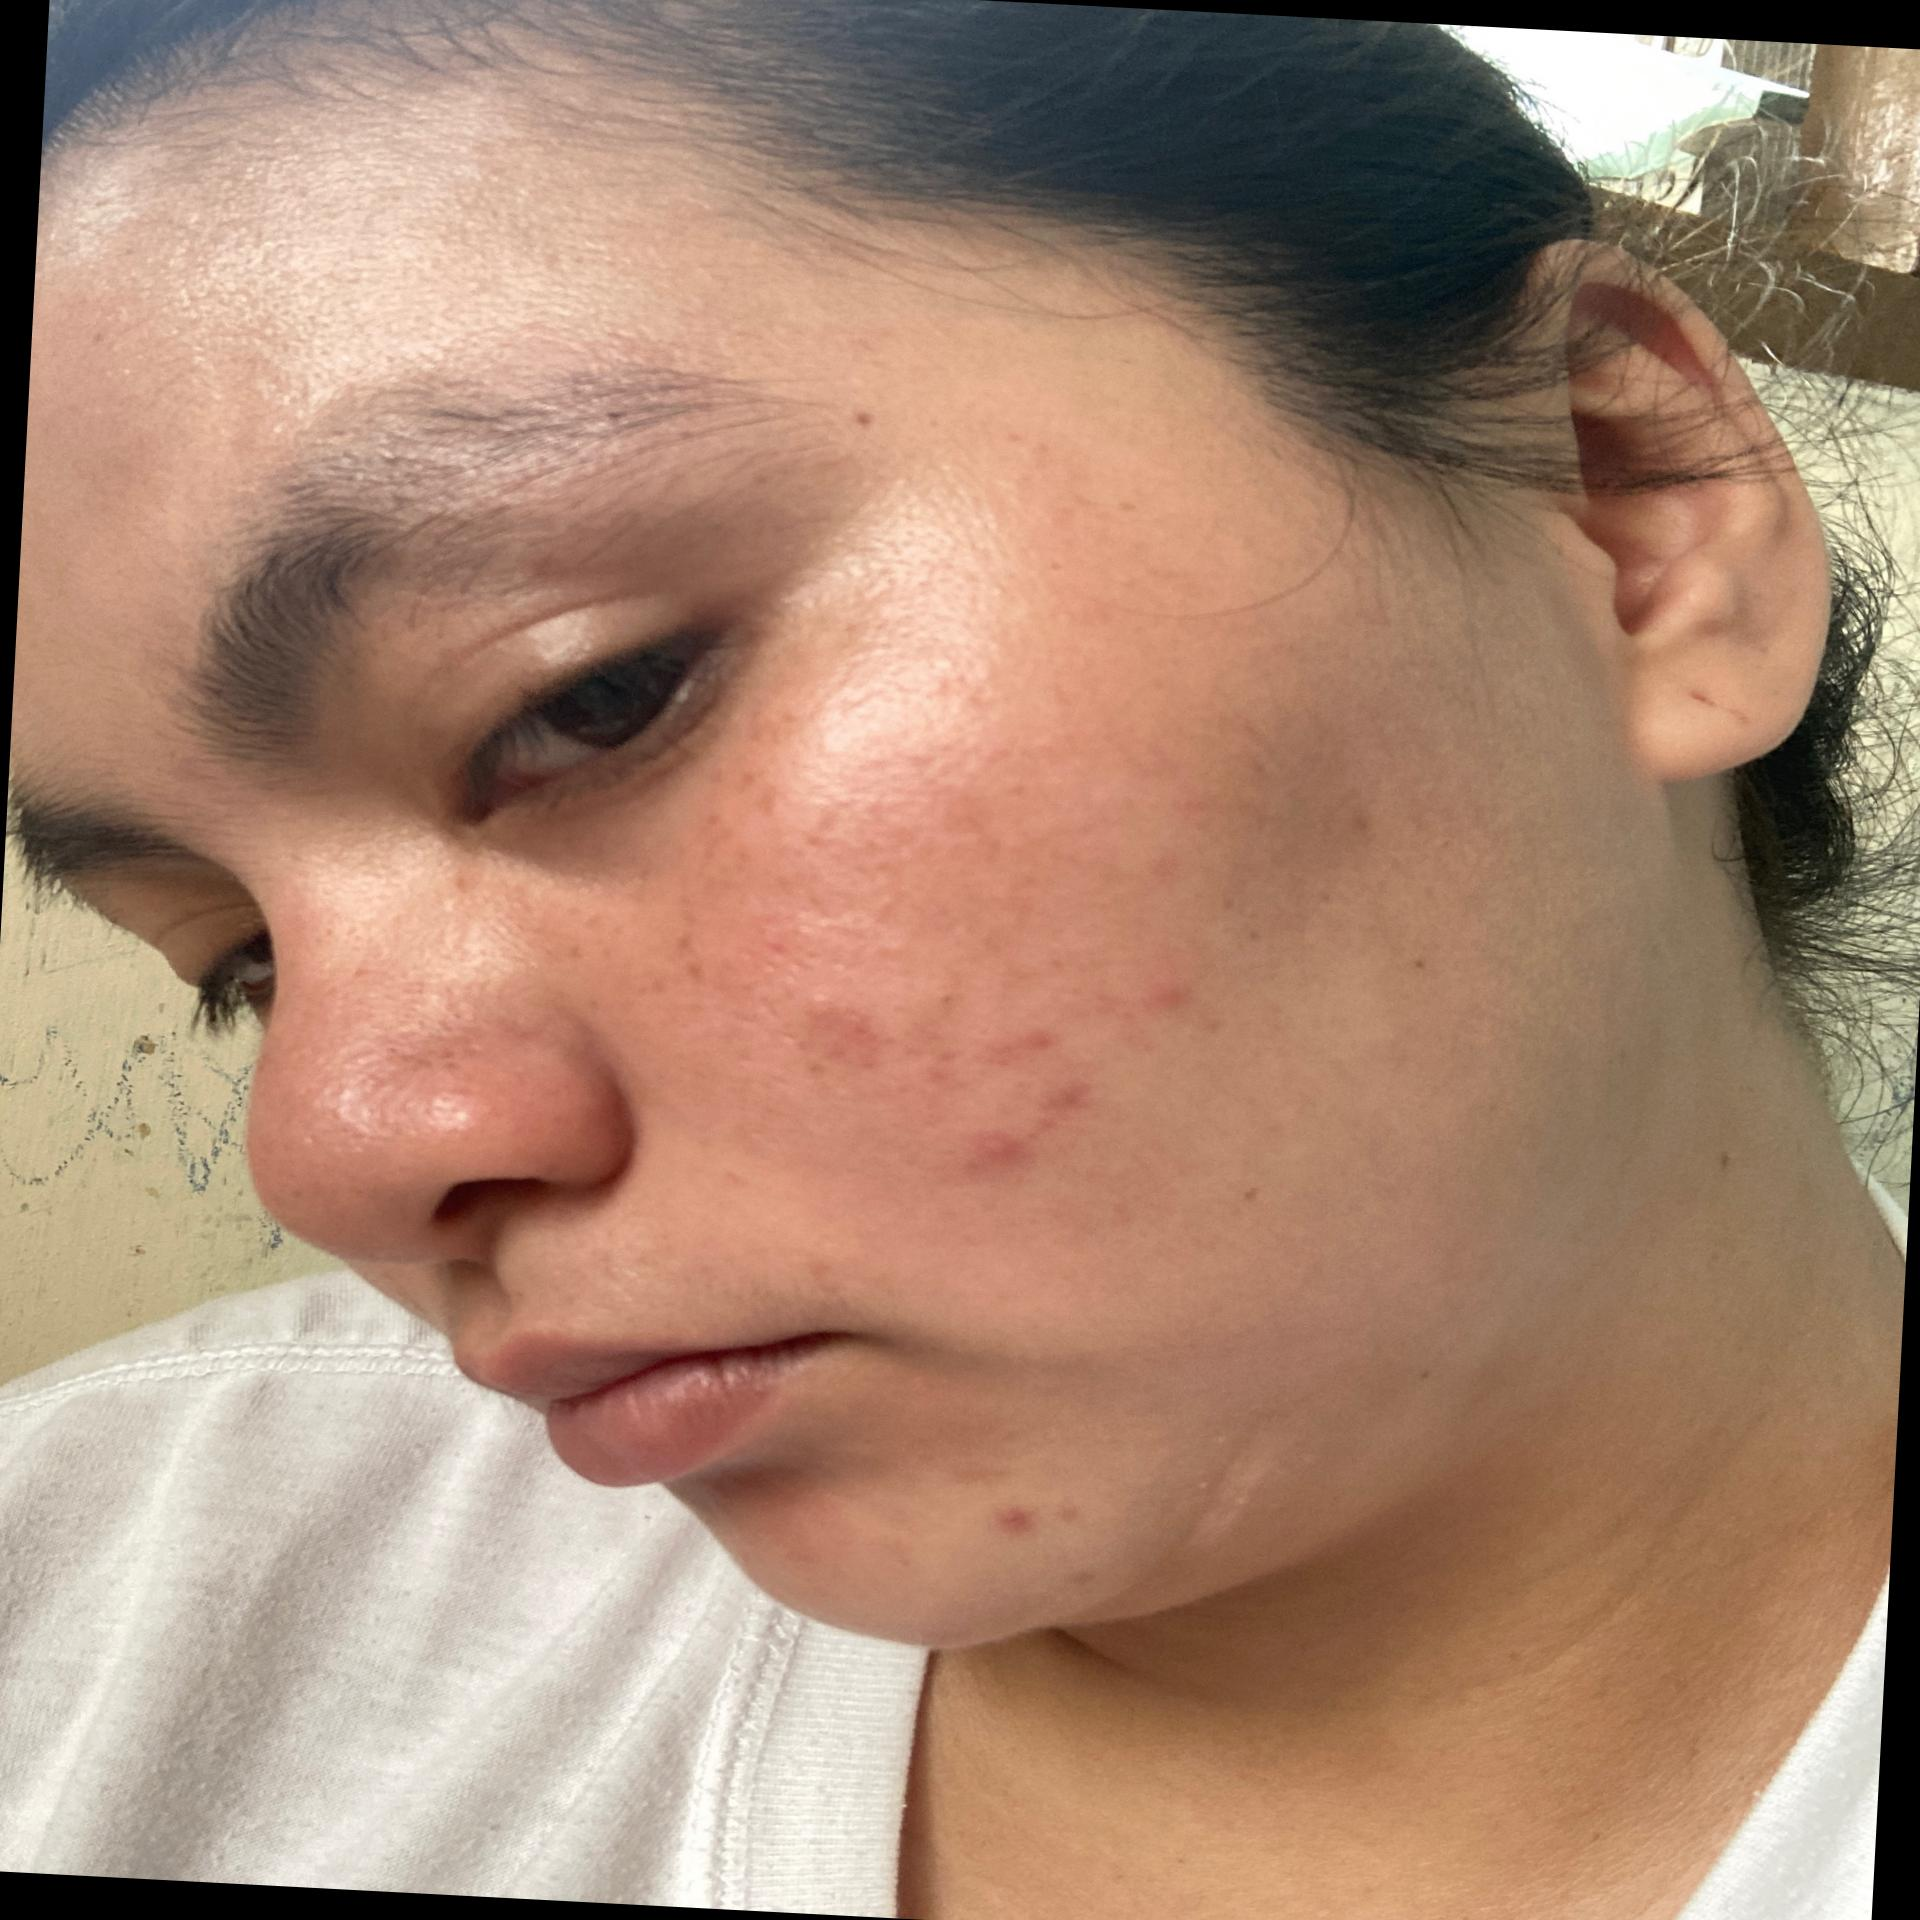Acne: (788, 629, 1132, 965), (629, 761, 784, 988), (939, 1050, 1067, 1190), (1069, 960, 1197, 1069), (951, 1484, 1094, 1549), (781, 967, 876, 1064), (986, 1085, 1132, 1125), (969, 1000, 1048, 1067)
Englarged Pores: (250, 1002, 466, 1217)
